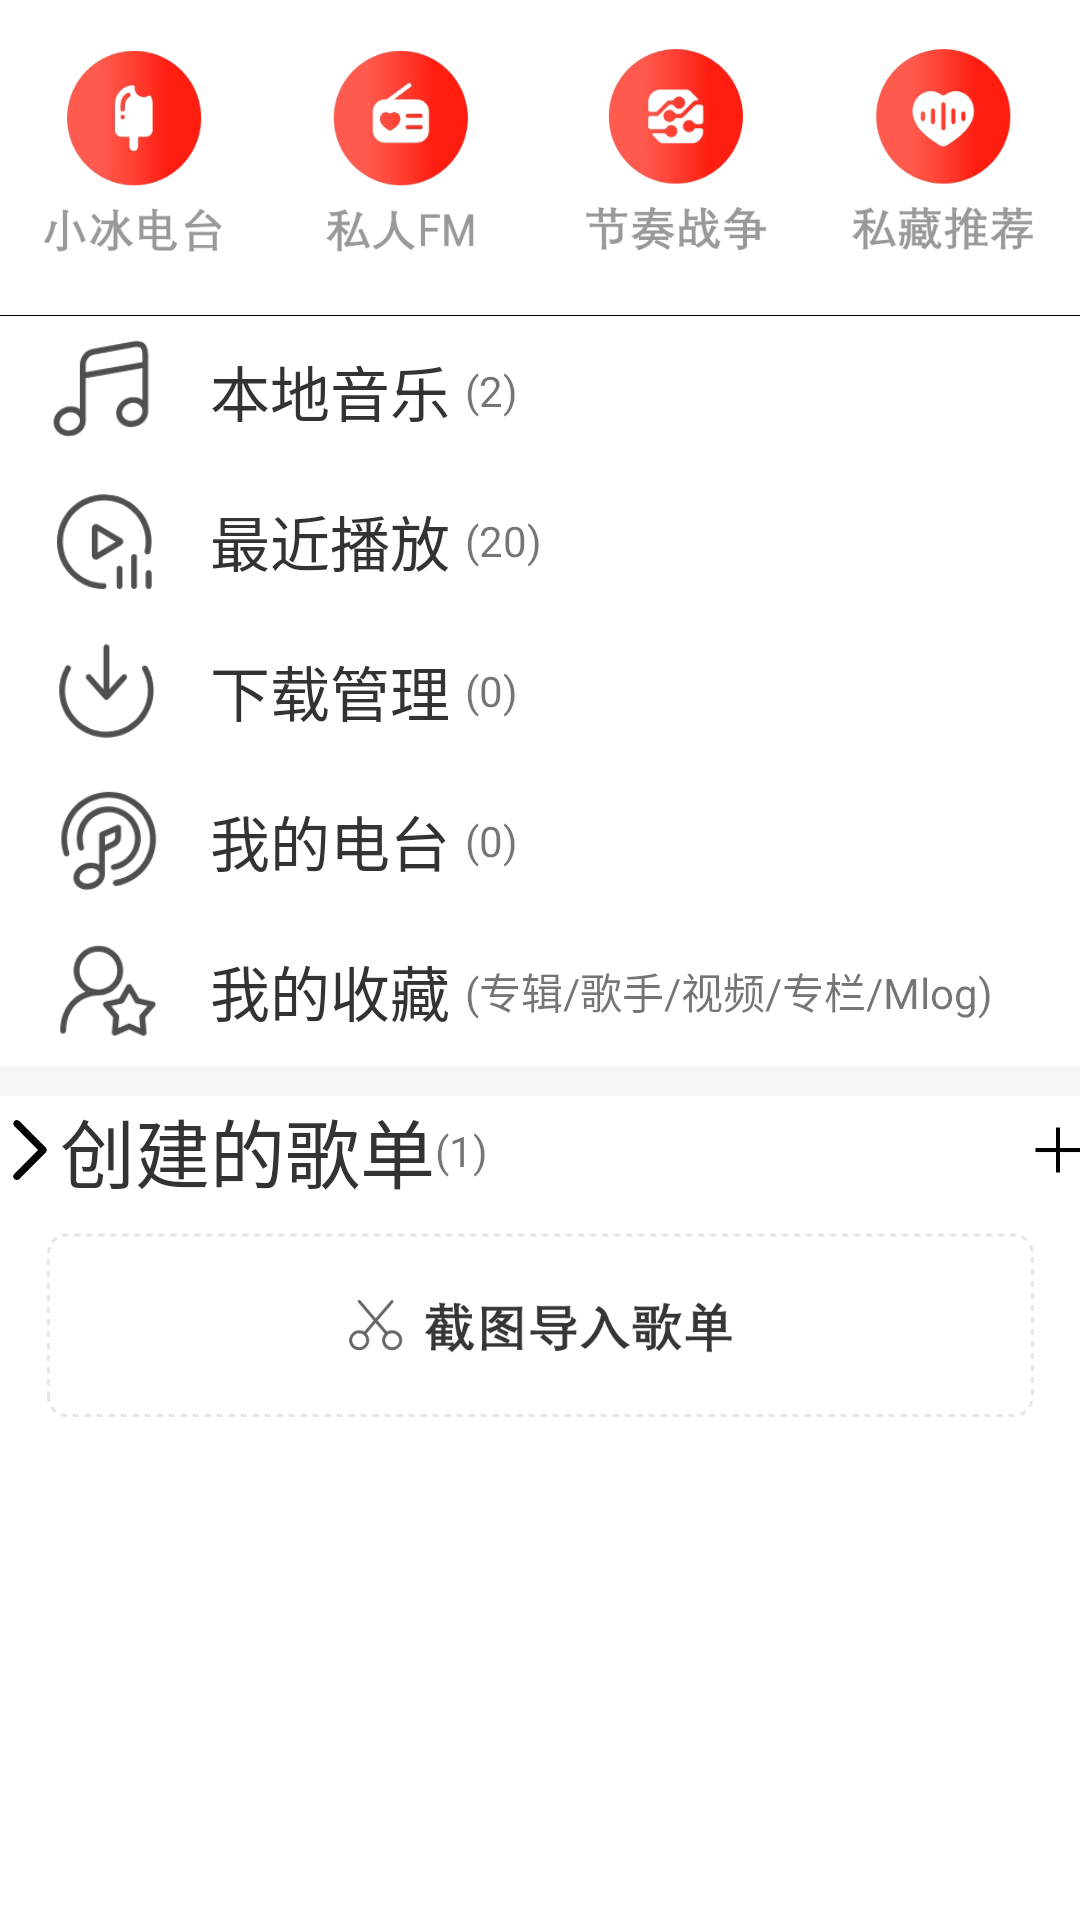

Icons on this 1080px×1920px Android screen, each with the point to tap as (x,y):
wode bendiyinyue: (101,388)
wode wodediantai: (109,841)
wode wodeshoucang: (108,990)
wode xiazaiguanli: (106,691)
wode zuijinbofang: (104,541)
